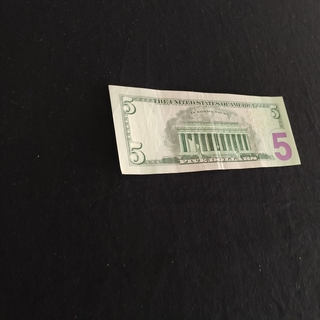5USDBack: (107, 84, 301, 175)
